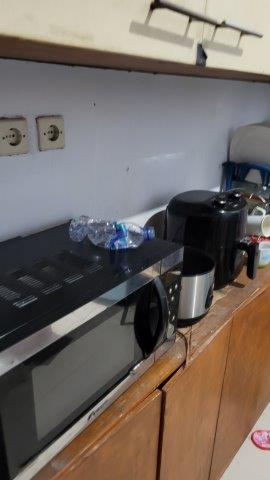botolplastik: (67, 214, 156, 252)
